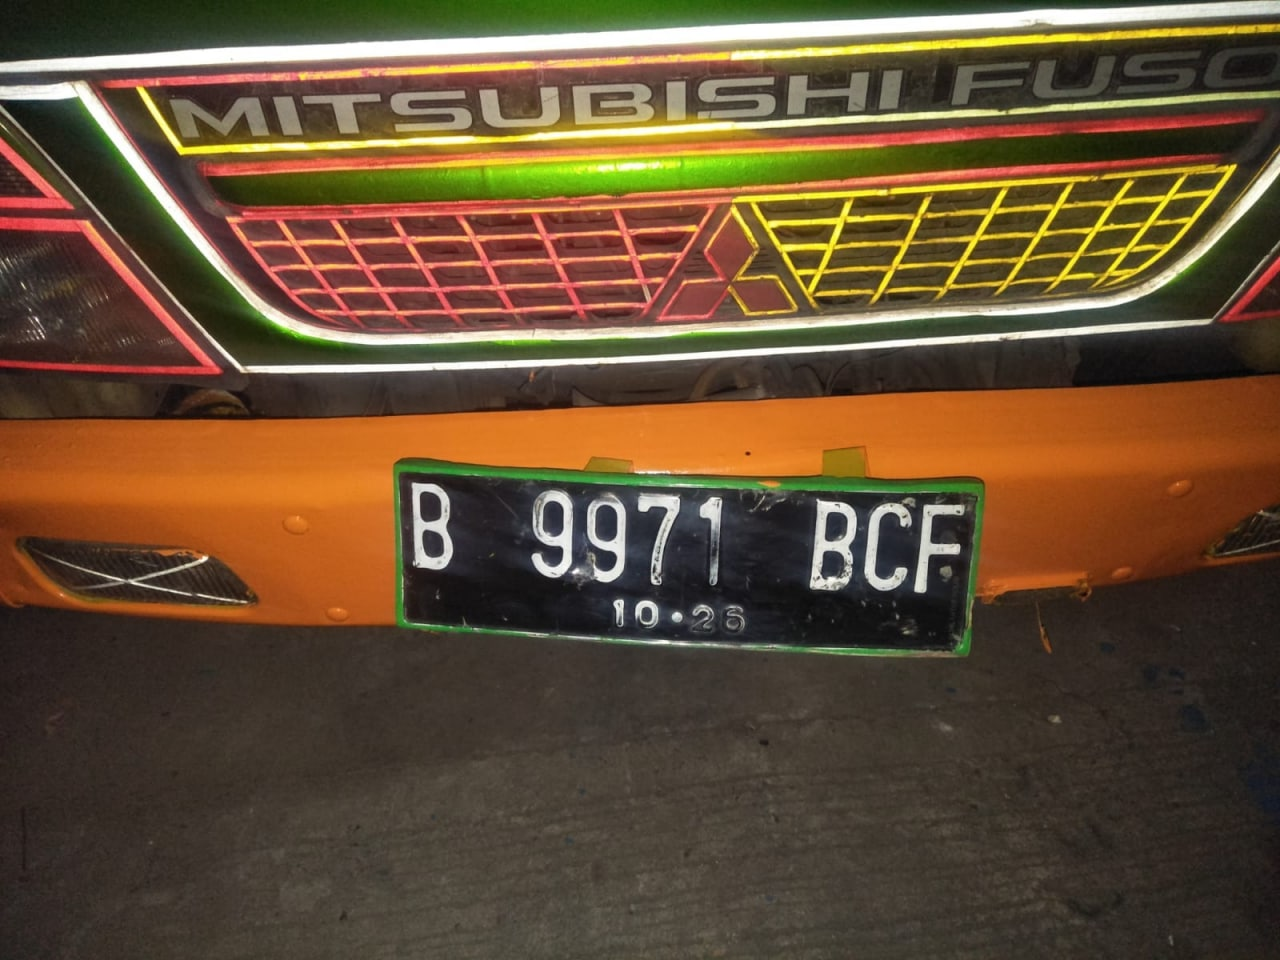plate: (399, 472, 976, 648)
